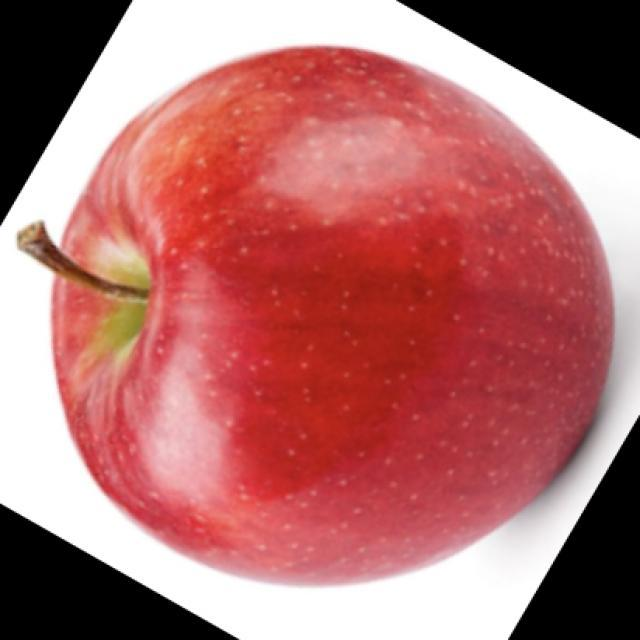Fresh Apple: (37, 48, 610, 572)
